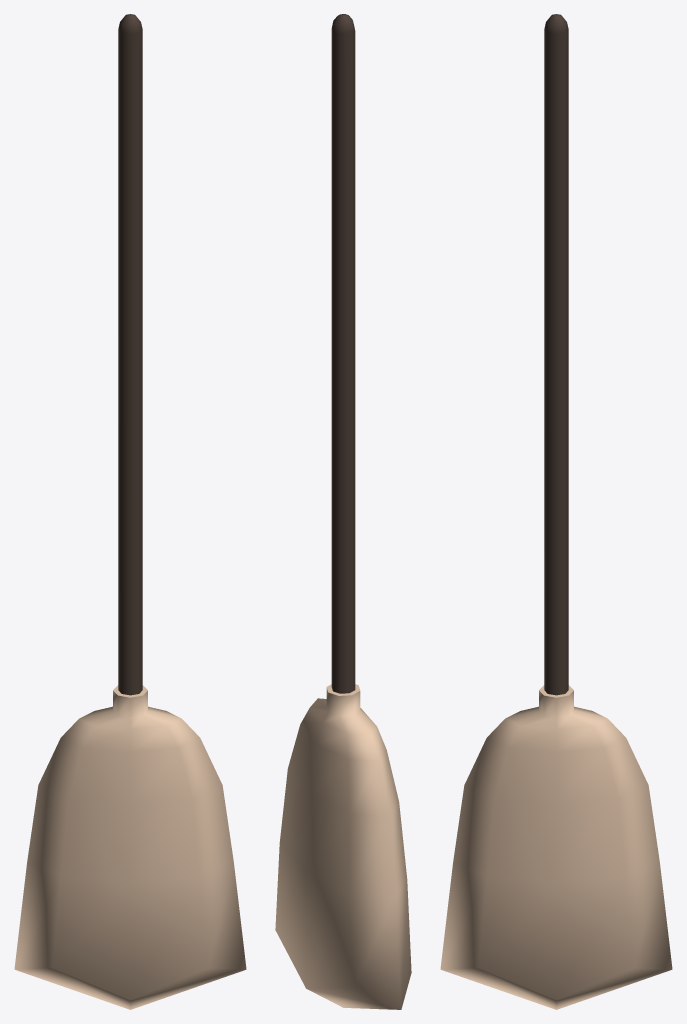
File: Broom.fbx
3 views of the same model, side by side, from view 1: azimuth 90°, elevation 25°; view 2: azimuth 210°, elevation 25°; view 3: azimuth 270°, elevation 25° (orthographic).
Visible parts, largest first — view 1: polySurface2; view 2: polySurface2; view 3: polySurface2.
Part boxes in pixels (x1,y1,x2,y2): polySurface2: (14, 14, 246, 1009); polySurface2: (275, 14, 411, 1009); polySurface2: (440, 14, 672, 1009).
Bounding box in the file's own units: 39.96 × 507 × 107.
